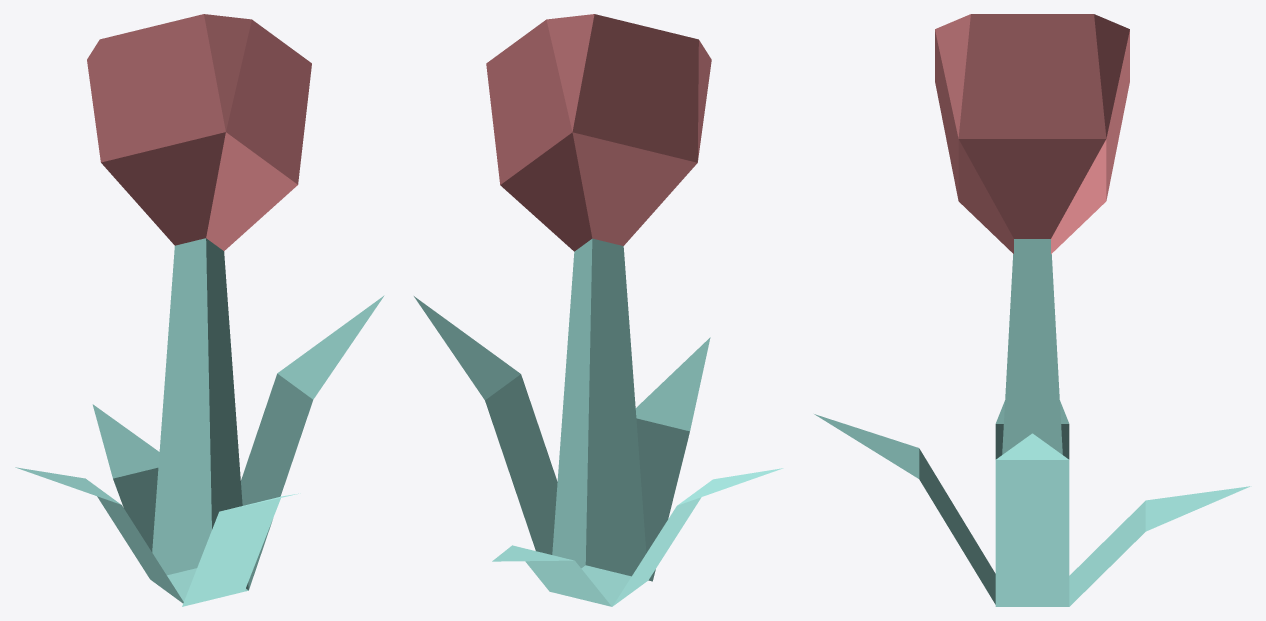
File: flower_red1.glb
3 renders of one model, left to right at view 1: azimuth 30°, elevation 25°; view 2: azimuth 150°, elevation 25°; view 3: azimuth 270°, elevation 25°, orthographic. The views are drawn at different scales.
Visible parts, largest first — view 1: flower_red1; view 2: flower_red1; view 3: flower_red1.
Part boxes in pixels (x1=…): flower_red1: x1=15, y1=14, x2=384, y2=606; flower_red1: x1=414, y1=14, x2=783, y2=606; flower_red1: x1=814, y1=14, x2=1251, y2=606.
Size of the model in its own units: 2.08 by 2.8 by 2.08.
